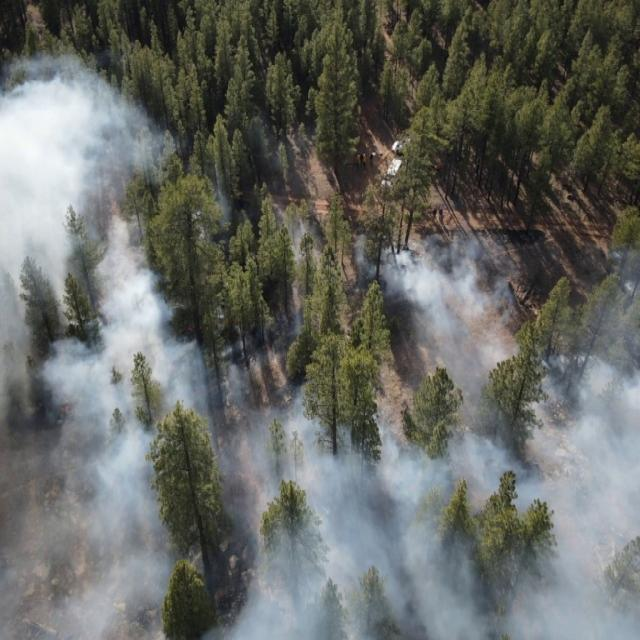fire: (262, 341, 273, 355)
smoke: (0, 50, 193, 640), (366, 225, 640, 640), (192, 190, 366, 640)
